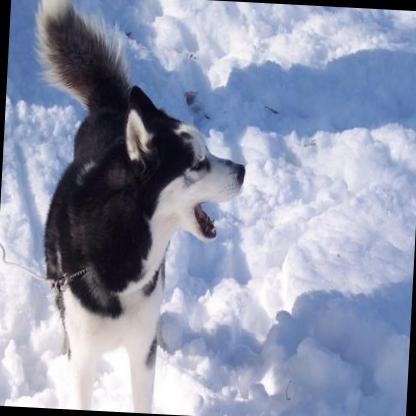Eskimo_dog: (13, 0, 253, 415)
